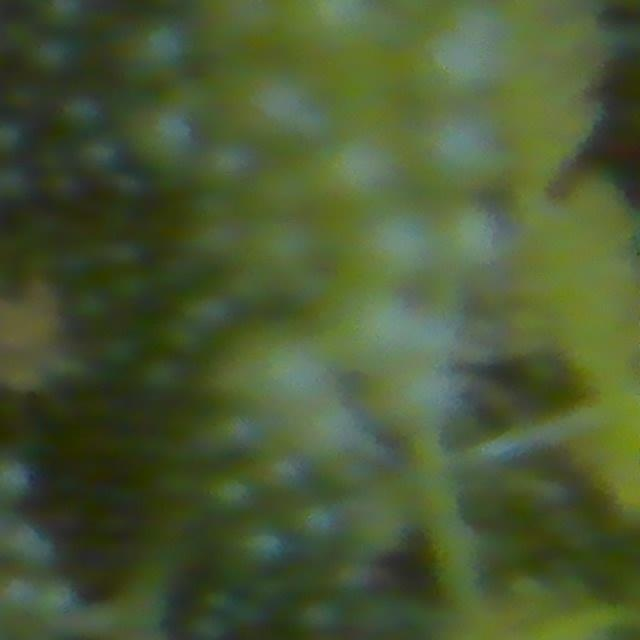SeaGrape: (405, 5, 504, 105), (308, 133, 404, 225), (214, 60, 314, 147), (412, 109, 493, 199), (281, 0, 389, 62), (344, 211, 428, 289), (106, 14, 187, 90), (122, 104, 195, 183), (427, 207, 508, 278), (197, 136, 259, 197), (213, 0, 289, 44), (0, 523, 53, 580), (235, 525, 289, 579), (200, 472, 254, 521), (33, 579, 78, 629), (73, 133, 120, 178), (0, 448, 36, 500), (296, 511, 340, 553), (57, 96, 100, 138), (0, 574, 32, 630), (27, 35, 66, 78), (0, 117, 30, 162), (45, 0, 81, 34)
